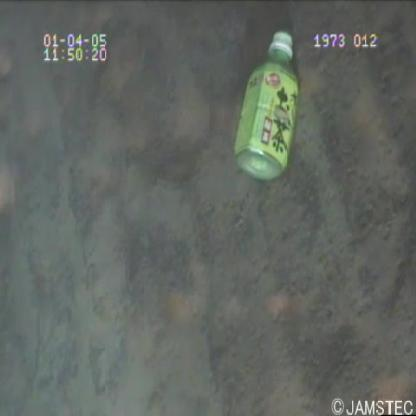Rác: (231, 27, 313, 192)
